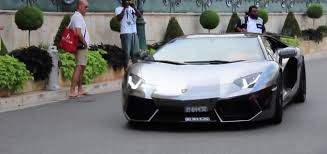Lamborghini: (143, 35, 307, 127)
